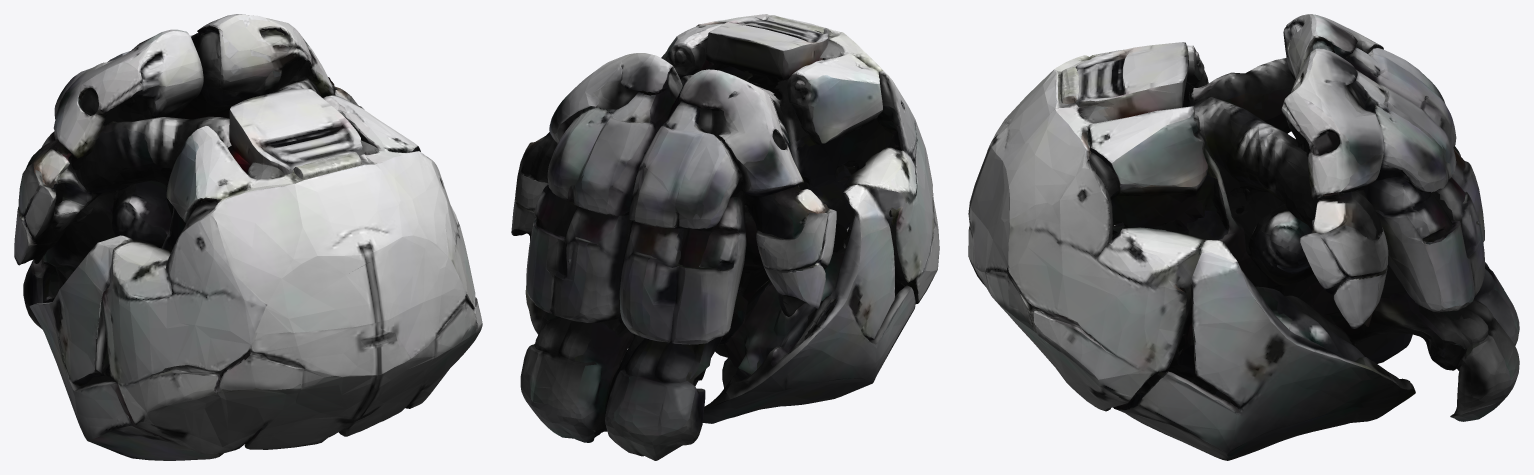
The model's file is prop_hangar_fist.fbx.
3 views of the same model, side by side, from view 1: azimuth 30°, elevation 25°; view 2: azimuth 150°, elevation 25°; view 3: azimuth 270°, elevation 25° (orthographic). The views are drawn at different scales.
Parts seen in each view (by area): view 1: geometry_0; view 2: geometry_0; view 3: geometry_0.
Part boxes in pixels (x1,y1,x2,y2): geometry_0: (14, 14, 482, 460); geometry_0: (511, 14, 939, 460); geometry_0: (968, 14, 1519, 460).
Size of the model in its own units: 0.7063 by 0.7393 by 0.9967.
